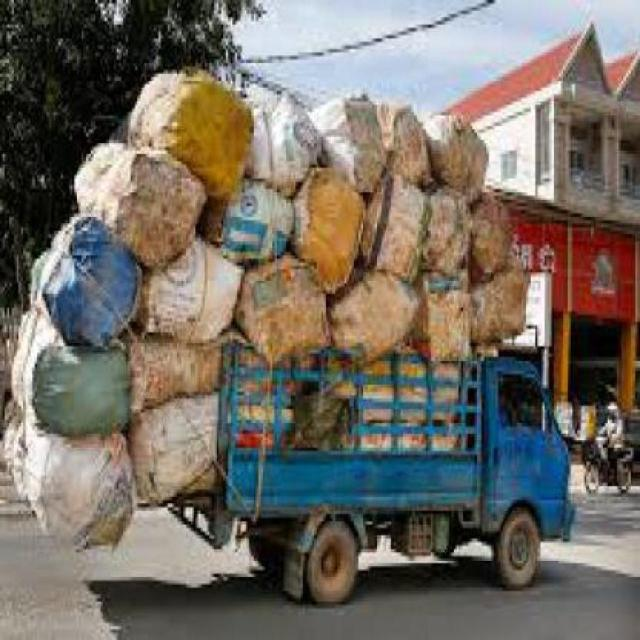goods: (5, 71, 525, 541)
truck: (219, 344, 572, 603)
